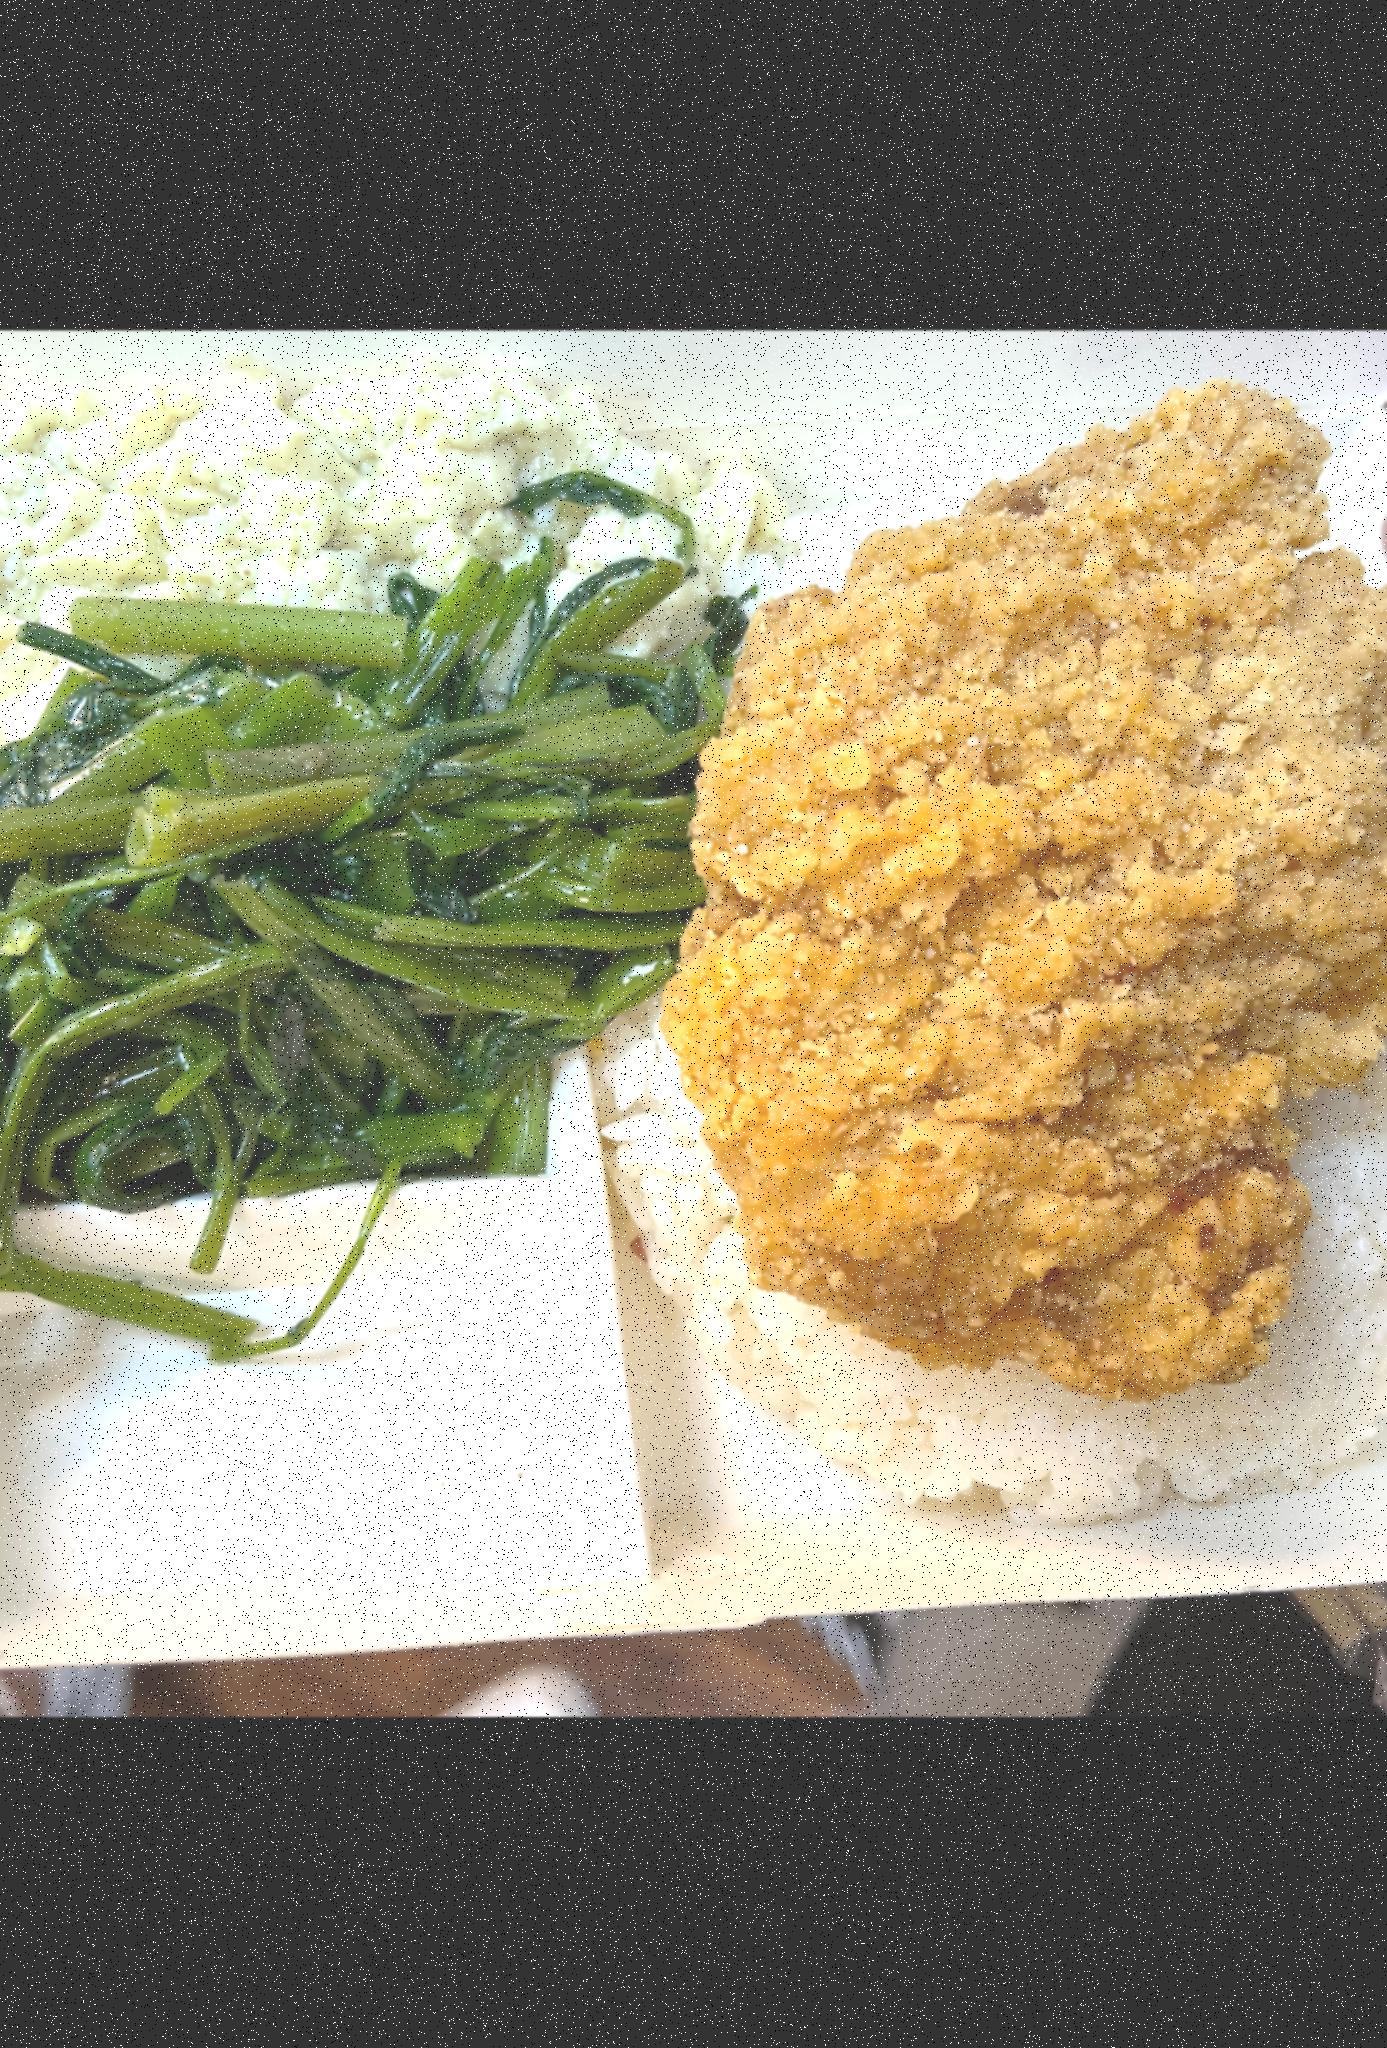box: (0, 382, 1387, 1714)
kara chicken leg steak: (656, 382, 1387, 1398)
side dish: (0, 553, 707, 1260), (0, 373, 666, 779)
white rice: (598, 472, 1387, 1543)
